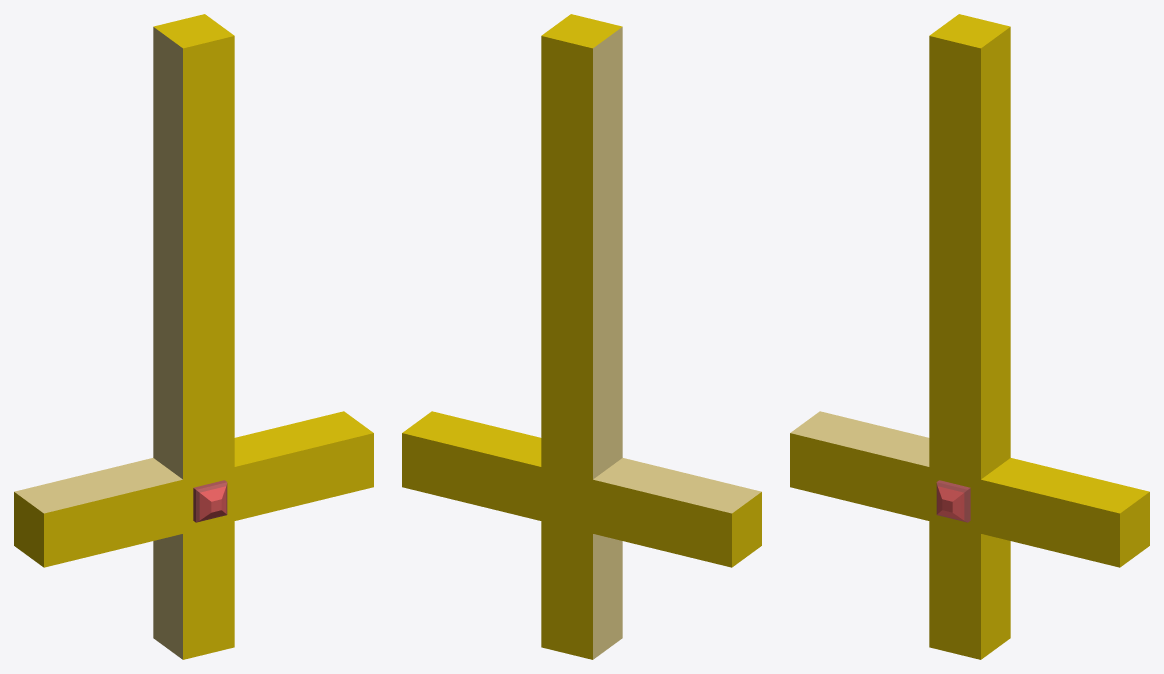
Rendered from crucifix01.fbx.
3 views of the same model, side by side, from view 1: azimuth 30°, elevation 25°; view 2: azimuth 150°, elevation 25°; view 3: azimuth 330°, elevation 25° (orthographic).
Parts seen in each view (by area): view 1: pCube5; view 2: pCube5; view 3: pCube5.
Part boxes in pixels (x1,y1,x2,y2): pCube5: (14,14,373,659); pCube5: (402,14,761,659); pCube5: (790,14,1149,659).
Bounding box in the file's own units: 4.36 × 7.72 × 0.8581.
